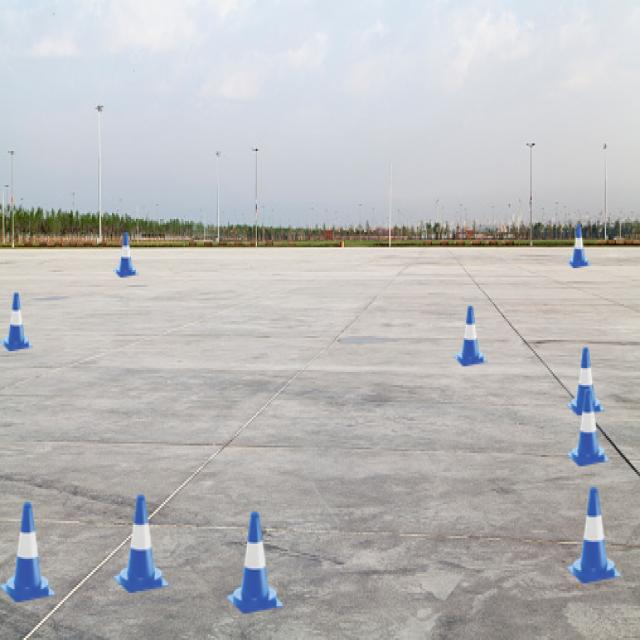blue_cone: (227, 512, 283, 614), (0, 502, 55, 602), (113, 494, 169, 592), (567, 487, 621, 583), (567, 389, 610, 466), (567, 348, 605, 416), (453, 306, 488, 366), (0, 293, 33, 351), (114, 232, 138, 278), (567, 225, 591, 268)
